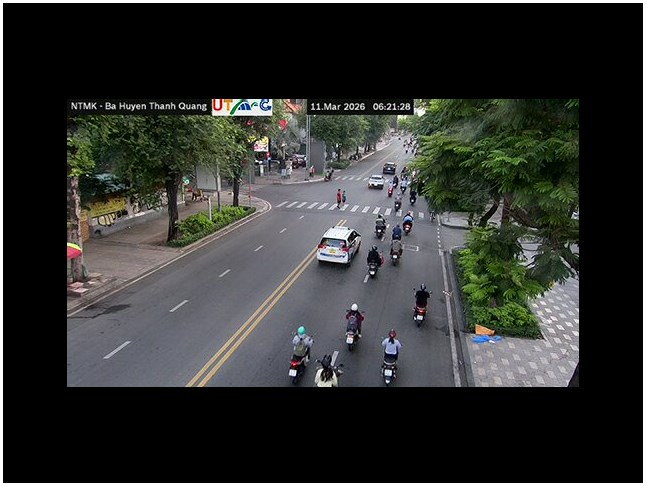car: (316, 222, 362, 267), (368, 176, 385, 190)
motorbike: (315, 351, 341, 386), (344, 307, 365, 350), (365, 248, 381, 281)
